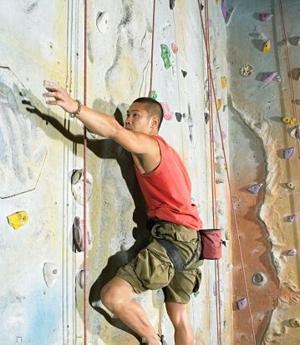person: (43, 80, 202, 345)
